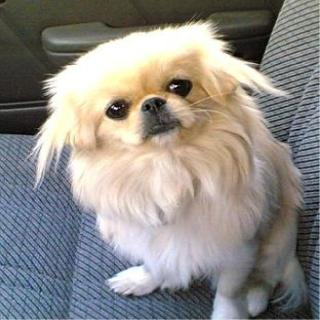dog: (31, 22, 257, 184)
nose: (139, 92, 168, 119)
